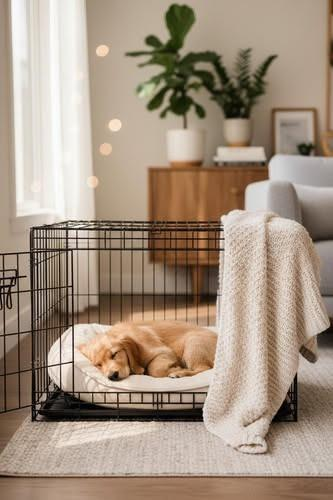puppy-dog: (82, 318, 218, 383)
